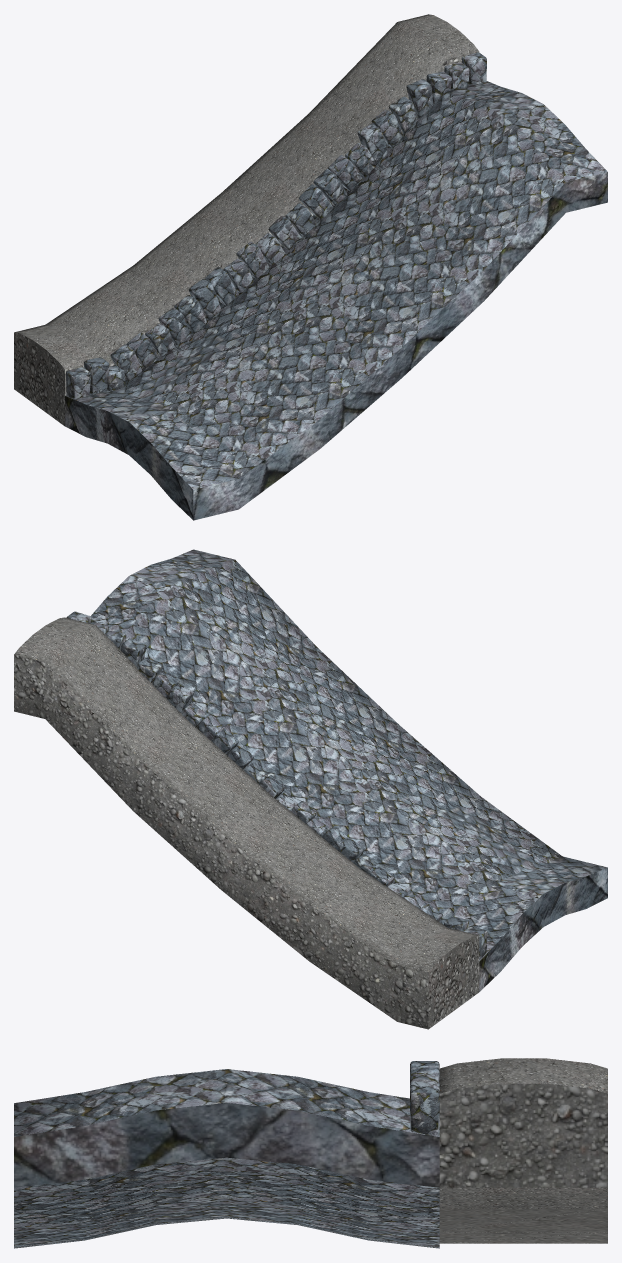
File: StreetSlant_Up_8x4m.fbx
3 views of the same model, one above another, from view 1: azimuth 30°, elevation 25°; view 2: azimuth 150°, elevation 25°; view 3: azimuth 270°, elevation 25° (orthographic). The views are drawn at different scales.
Parts seen in each view (by area): view 1: StreetSlant_Up_8x4m; view 2: StreetSlant_Up_8x4m; view 3: StreetSlant_Up_8x4m.
Part boxes in pixels (x1,y1,x2,y2): StreetSlant_Up_8x4m: [14, 14, 607, 520]; StreetSlant_Up_8x4m: [14, 549, 607, 1029]; StreetSlant_Up_8x4m: [14, 1058, 607, 1248].
Bounding box in the file's own units: 8 × 5.16 × 6.
